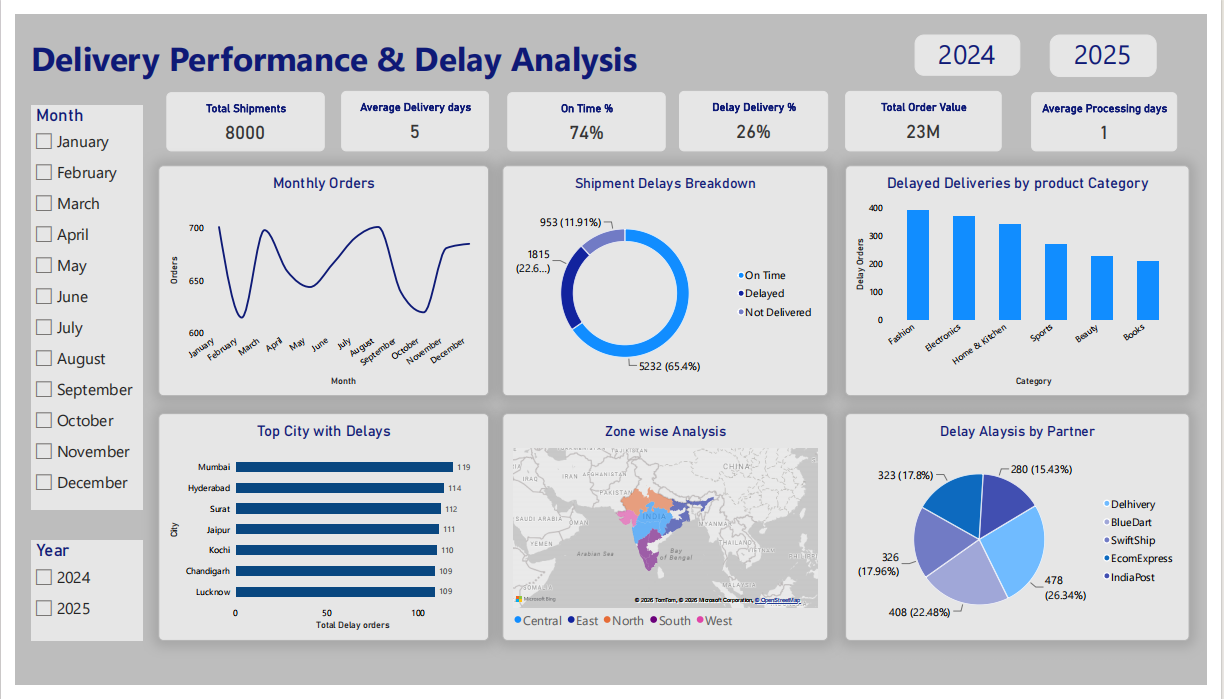

The dashboard page shown, as its layout file describes it:
{"tool":"powerbi","page":{"name":"Page 1","canvas":[1920,1080],"ordinal":0},"visuals":[{"type":"textbox","box":[25,32.5,1165,67.5],"z":0},{"type":"textbox","box":[1668,32,172,68],"z":1000},{"type":"advanceCardE03760C5AB684758B56AA29F9E6C257B","title":"Total Shipments","fields":{"mainMeasure":["Orders.Total Orders"]},"box":[242.5,125,255,95],"z":2000},{"type":"lineChart","title":"Monthly Orders","fields":{"Category":["Date_Table.Month"],"Y":["CountNonNull(Orders.Order_ID)"]},"box":[230,242.5,532.5,372.5],"z":3000},{"type":"barChart","title":"Top City with Delays","fields":{"Category":["Orders.City"],"Y":["Sum(Orders.delay_per)"]},"box":[230,642.5,532.5,367.5],"z":4000},{"type":"donutChart","title":"Shipment Delays Breakdown","fields":{"Category":["Orders.Delivery Performance"],"Y":["Orders.Total Orders"]},"box":[785,242.5,525,372.5],"z":5000},{"type":"filledMap","title":"Zone wise Analysis","fields":{"Category":["Orders.state"],"Series":["Orders.Region"]},"box":[785,642.5,525,367.5],"z":6000},{"type":"columnChart","title":"Delayed Deliveries by product Category","fields":{"Category":["Orders.Product_Category"],"Y":["Sum(Orders.delay_per)"]},"box":[1337.5,242.5,555,372.5],"z":7000},{"type":"pieChart","title":"Delay Alaysis by Partner","fields":{"Category":["Orders.Delivery_Partner"],"Y":["Sum(Orders.delay_per)"]},"box":[1337.5,642.5,555,367.5],"z":8000},{"type":"advanceCardE03760C5AB684758B56AA29F9E6C257B","title":"Average Processing days","fields":{"mainMeasure":["Avg(Orders.Processing Days)"]},"box":[1637.5,125,235,95],"z":9000},{"type":"advanceCardE03760C5AB684758B56AA29F9E6C257B","title":"Total Order Value","fields":{"mainMeasure":["Orders.Total Order Value"]},"box":[1337.5,122.5,252.5,97.5],"z":10000},{"type":"advanceCardE03760C5AB684758B56AA29F9E6C257B","title":"Delay Delivery %","fields":{"mainMeasure":["Orders.Delivery Delay %"]},"box":[1070,122.5,240,97.5],"z":11000},{"type":"advanceCardE03760C5AB684758B56AA29F9E6C257B","title":"On Time %","fields":{"mainMeasure":["Orders.On-Time Delivery %"]},"box":[792.5,125,255,95],"z":12000},{"type":"advanceCardE03760C5AB684758B56AA29F9E6C257B","title":"Average Delivery days","fields":{"mainMeasure":["Orders.Average Delivery Days"]},"box":[525,122.5,237.5,97.5],"z":13000},{"type":"textbox","box":[1450,32,170,66],"z":14000},{"type":"slicer","fields":{"Values":["Date_Table.Month"]},"box":[25,145,180,652.5],"z":15000},{"type":"slicer","fields":{"Values":["Date_Table.Year"]},"box":[25,847.5,180,162.5],"z":15001}]}

Visuals, with their boxes in screenshot pixels (x1, y1, x2, y2), scaled from the page's 1920x1080 canvas onto the 1224x699 screenshot:
textbox: (16, 21, 759, 65)
textbox: (1063, 21, 1173, 65)
"Total Shipments" advanceCardE03760C5AB684758B56AA29F9E6C257B: (155, 81, 317, 142)
"Monthly Orders" lineChart: (147, 157, 486, 398)
"Top City with Delays" barChart: (147, 416, 486, 654)
"Shipment Delays Breakdown" donutChart: (500, 157, 835, 398)
"Zone wise Analysis" filledMap: (500, 416, 835, 654)
"Delayed Deliveries by product Category" columnChart: (853, 157, 1206, 398)
"Delay Alaysis by Partner" pieChart: (853, 416, 1206, 654)
"Average Processing days" advanceCardE03760C5AB684758B56AA29F9E6C257B: (1044, 81, 1194, 142)
"Total Order Value" advanceCardE03760C5AB684758B56AA29F9E6C257B: (853, 79, 1014, 142)
"Delay Delivery %" advanceCardE03760C5AB684758B56AA29F9E6C257B: (682, 79, 835, 142)
"On Time %" advanceCardE03760C5AB684758B56AA29F9E6C257B: (505, 81, 668, 142)
"Average Delivery days" advanceCardE03760C5AB684758B56AA29F9E6C257B: (335, 79, 486, 142)
textbox: (924, 21, 1033, 63)
slicer - Date_Table.Month: (16, 94, 131, 516)
slicer - Date_Table.Year: (16, 549, 131, 654)
